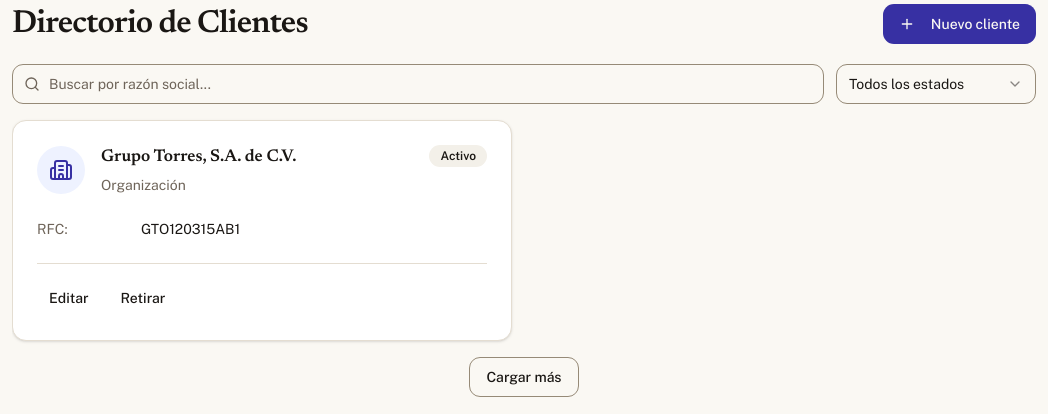
Test: paging is forward-only and cursor-driven › sends the cursor back verbatim and appends the next page
Expected: the heading "Grupo Torres, S.A. de C.V." is shown, [101,145,296,170]
Step 1. Click the button "Cargar más" → x=524, y=376, box [470,356,578,396]
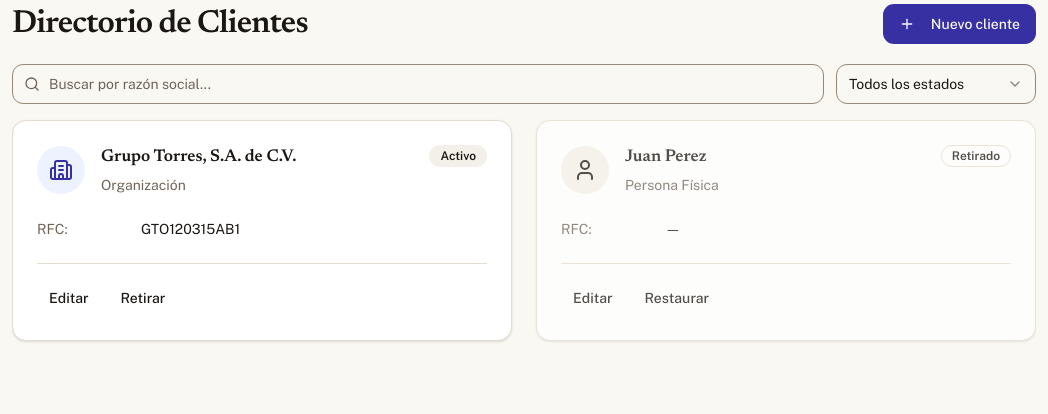
Expected: the heading "Grupo Torres, S.A. de C.V." is shown, [101,145,296,170]
Result: the heading "Juan Perez" is shown at [625,145,719,170]
